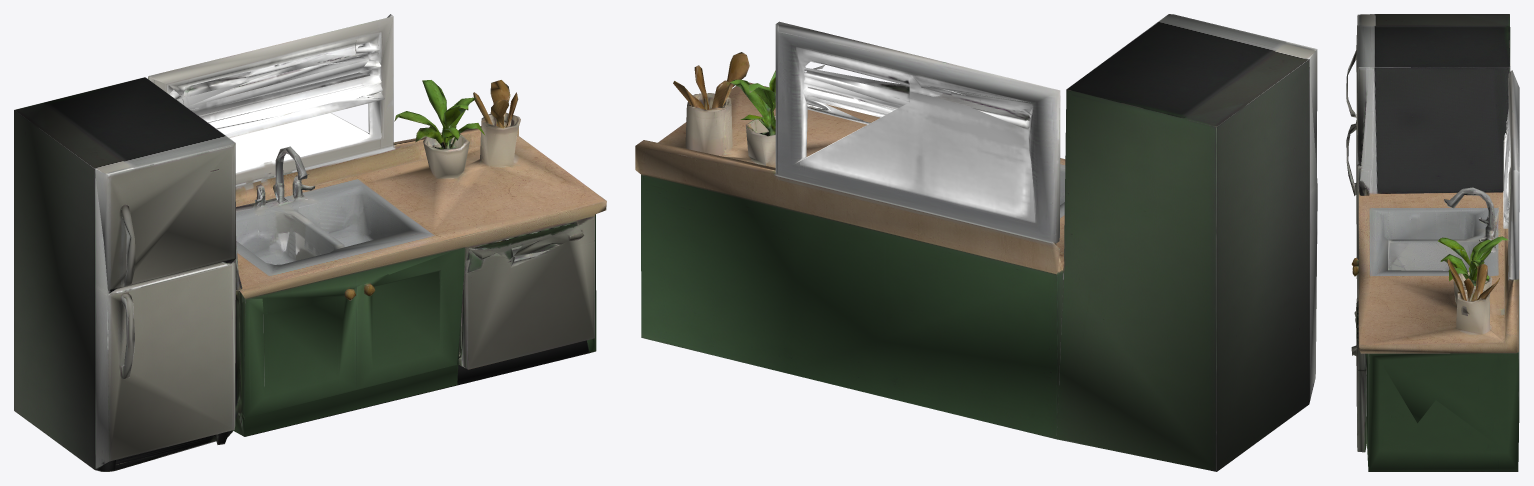
The model's file is Meshy_AI_Green_Kitchenette_wit_0610182340_texture.fbx.
3 views of the same model, side by side, from view 1: azimuth 30°, elevation 25°; view 2: azimuth 150°, elevation 25°; view 3: azimuth 270°, elevation 25° (orthographic). The views are drawn at different scales.
Parts seen in each view (by area): view 1: Mesh_0; view 2: Mesh_0; view 3: Mesh_0.
Boxes of the visible parts, x1,y1,x2,y2 form: Mesh_0: (14,14,606,471); Mesh_0: (635,14,1317,471); Mesh_0: (1346,14,1519,471).
Bounding box in the file's own units: 191 × 110 × 67.66.
Materials: 1 (1 with a texture image).
